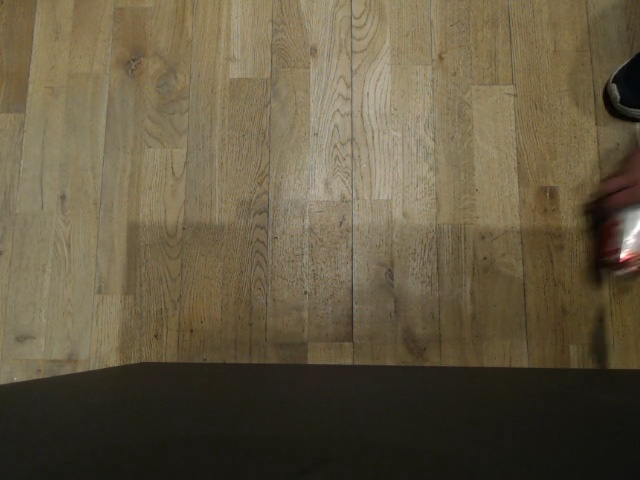cola: (588, 198, 640, 284)
